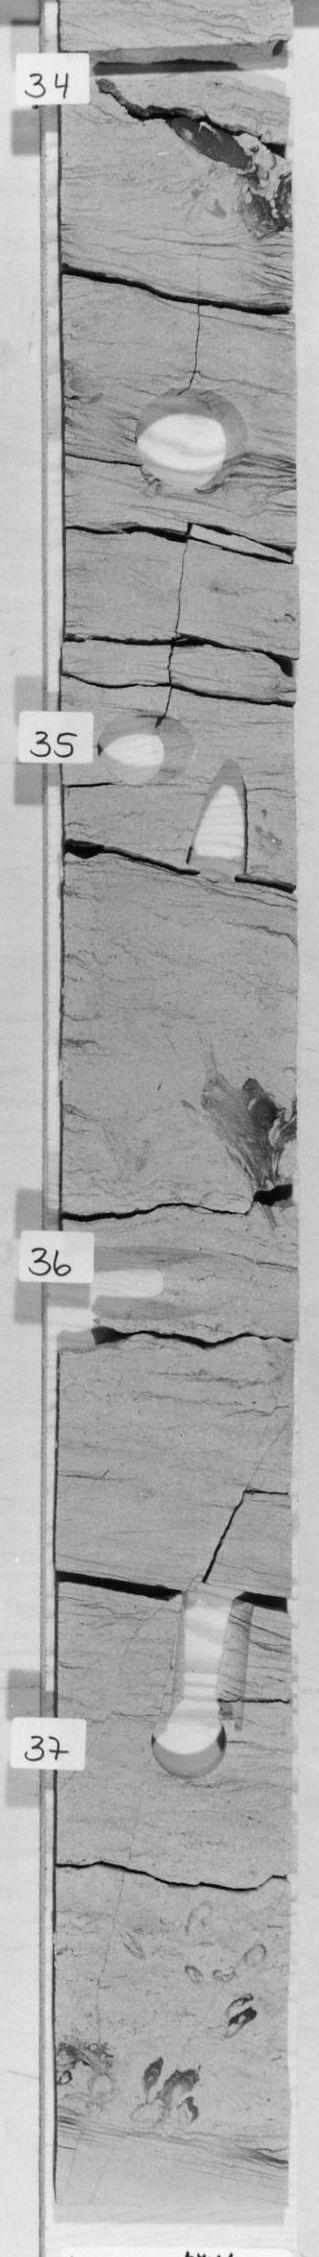hplug: (79, 1236, 262, 1339), (91, 702, 205, 797), (141, 1706, 241, 1786)
scal: (122, 367, 254, 508)
vplug: (167, 1583, 262, 1710), (184, 748, 259, 898)
